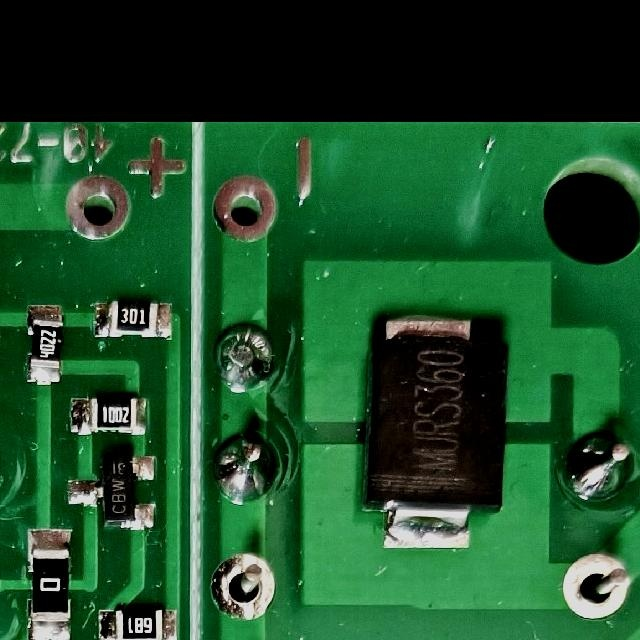chip-resistor: (24, 526, 76, 640), (63, 395, 151, 439), (89, 299, 175, 341), (21, 302, 64, 386), (93, 606, 180, 640)
diode: (356, 309, 512, 555)
transistor: (63, 452, 161, 536)
